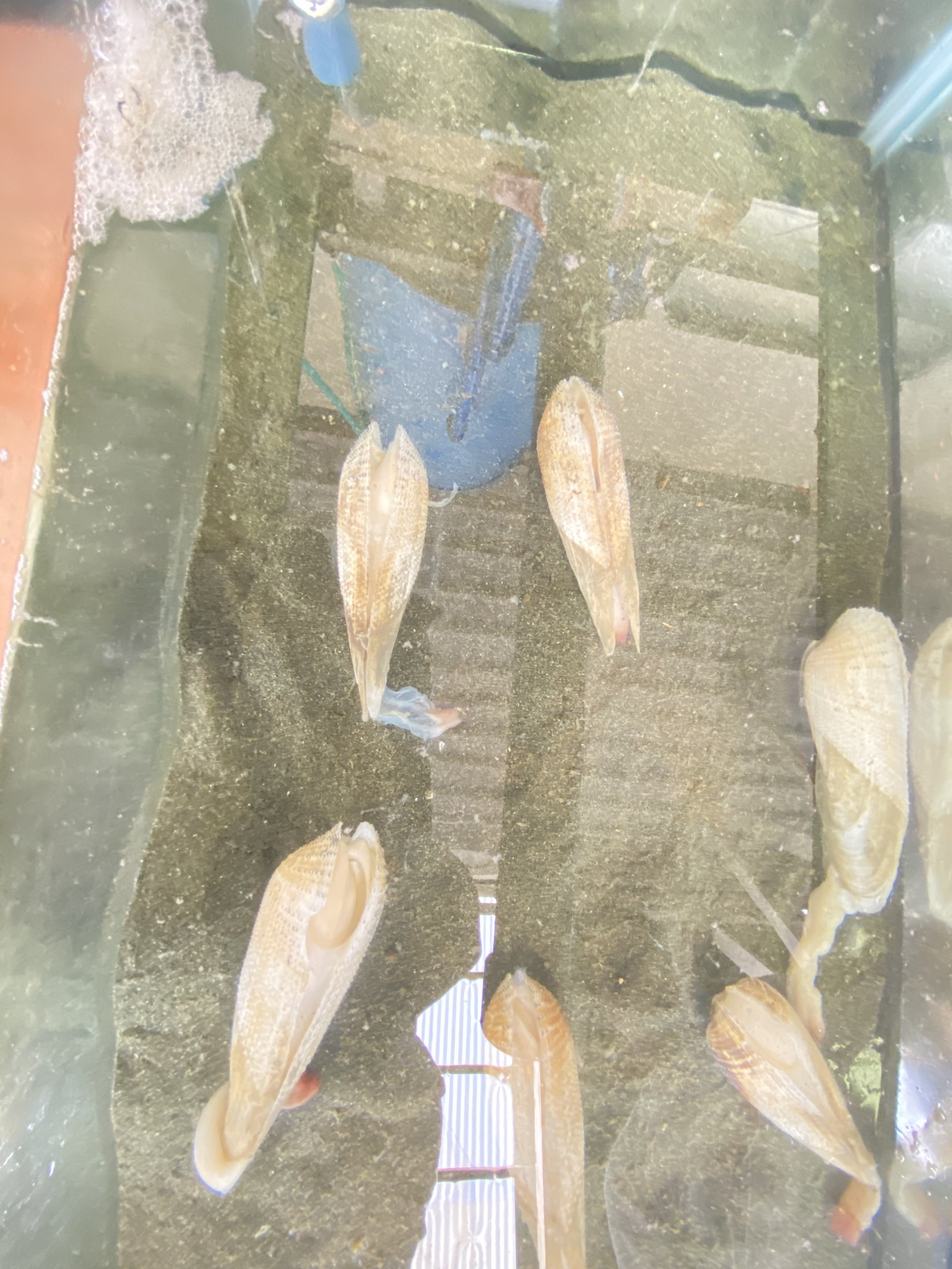At risk: (194, 823, 386, 1193), (789, 609, 908, 1039), (706, 978, 880, 1244), (482, 968, 585, 1269), (537, 377, 639, 656), (336, 423, 428, 721)
